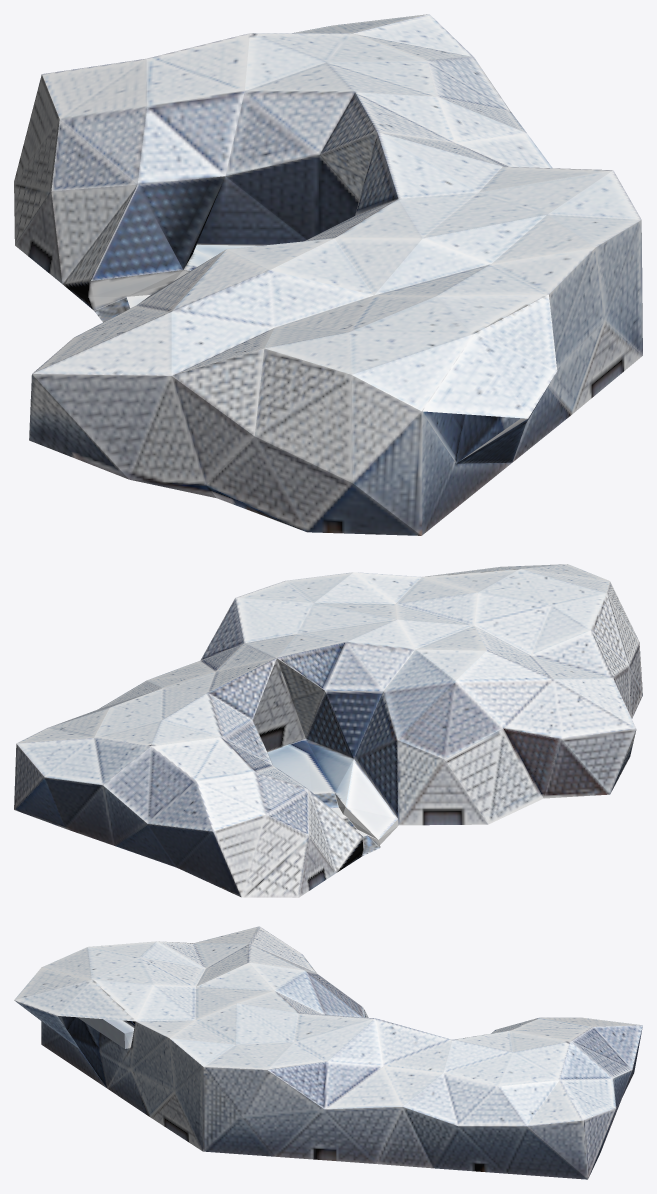
3 views of the same model, one above another, from view 1: azimuth 30°, elevation 25°; view 2: azimuth 150°, elevation 25°; view 3: azimuth 270°, elevation 25° (orthographic). The views are drawn at different scales.
Visible parts, largest first — view 1: a01.001; view 2: a01.001; view 3: a01.001.
Boxes of the visible parts, x1,y1,x2,y2 form: a01.001: (14, 14, 642, 535); a01.001: (14, 564, 642, 897); a01.001: (14, 926, 642, 1179).
Size of the model in its own units: 113 by 30.71 by 151.
1 material, 1 textured.
